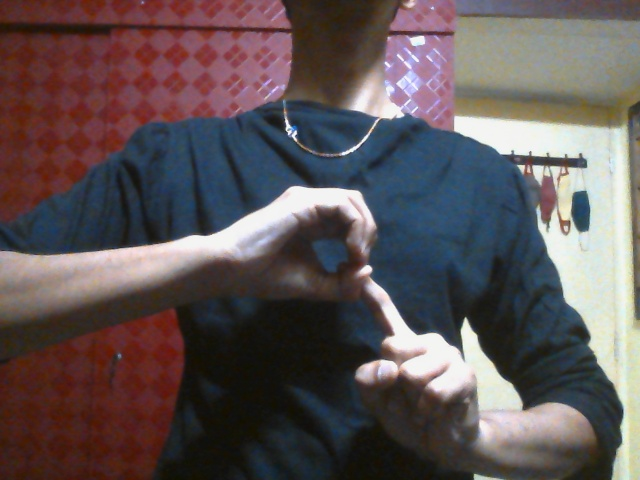Q: (224, 183, 479, 455)
